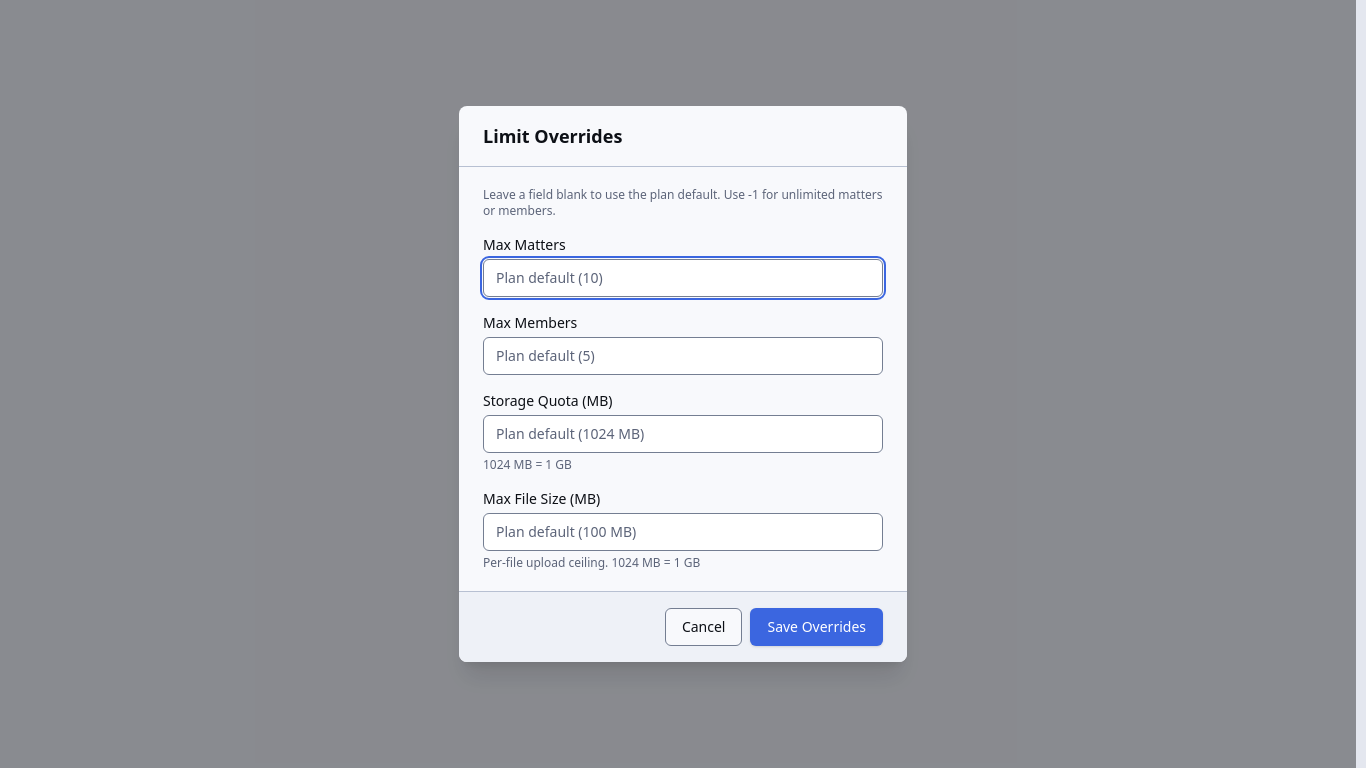
Scenario: the Storage Quota (MB) field holding 0 › is refused in the form and never sent
Type "0" into the number field labelled "Storage Quota (MB)" at (683, 434), box [483,415,883,453]
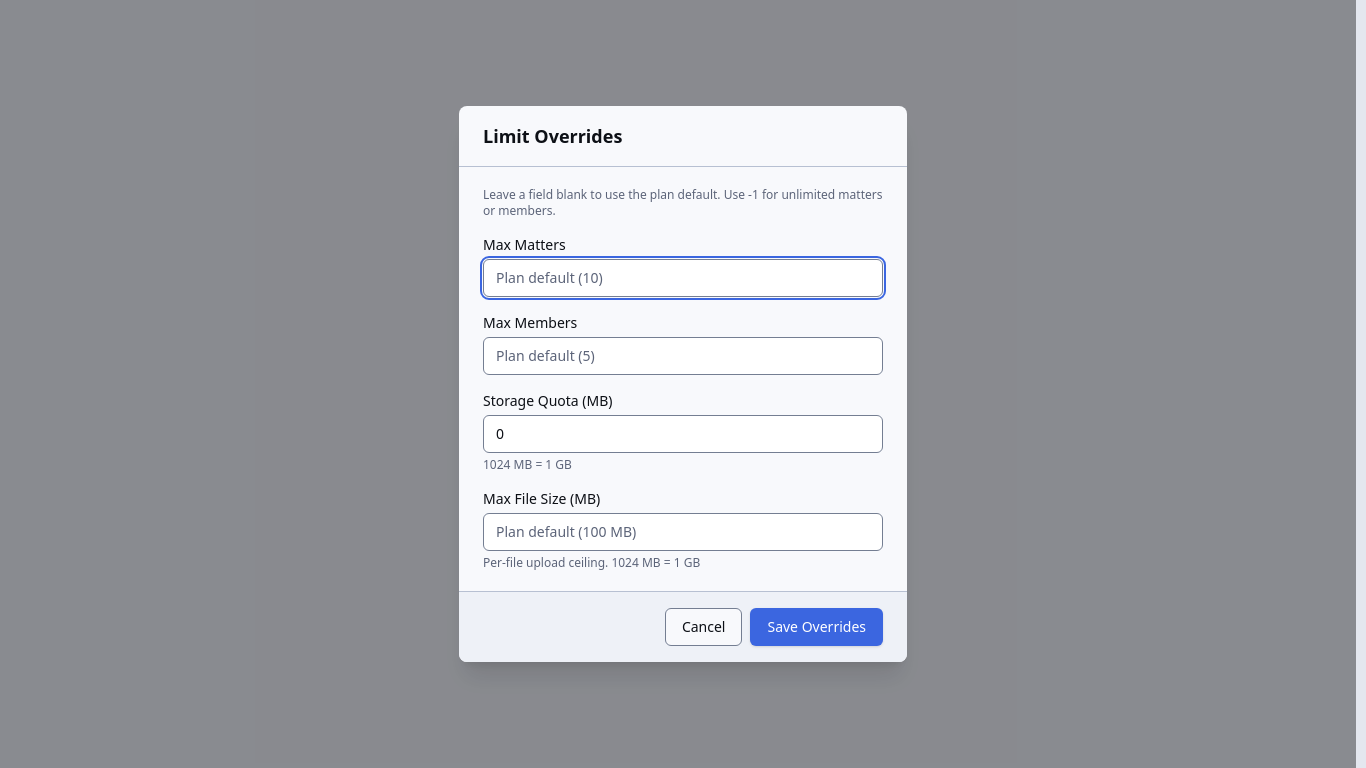
Click the button "Save Overrides" at (817, 627), box [750,608,883,646]
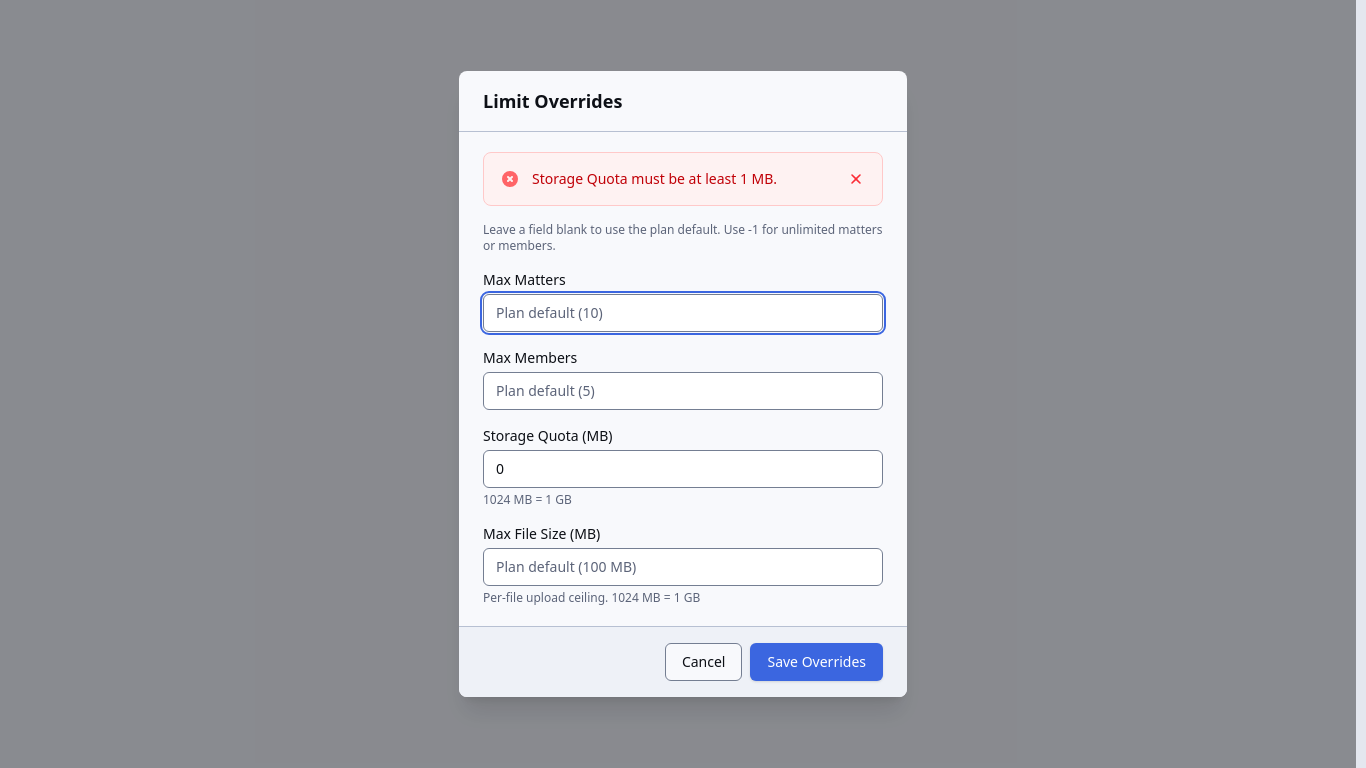
Expected: the message reads "Storage Quota must be at least 1 MB.", [532,169,777,188]
